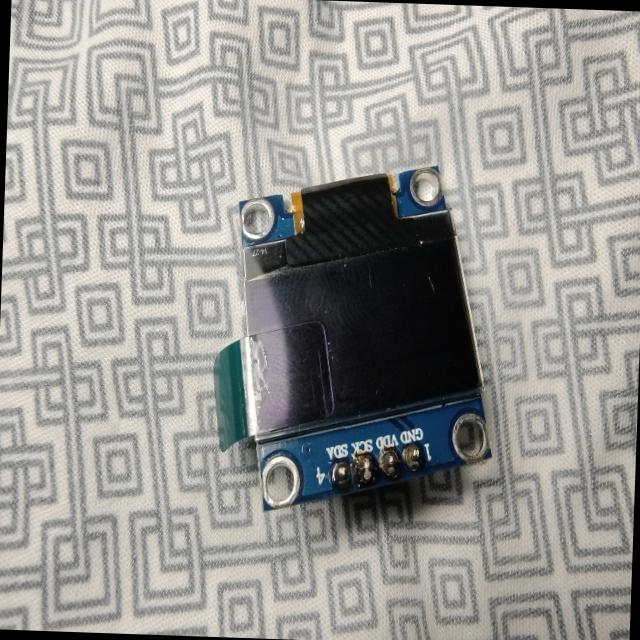oled: (202, 153, 518, 527)
